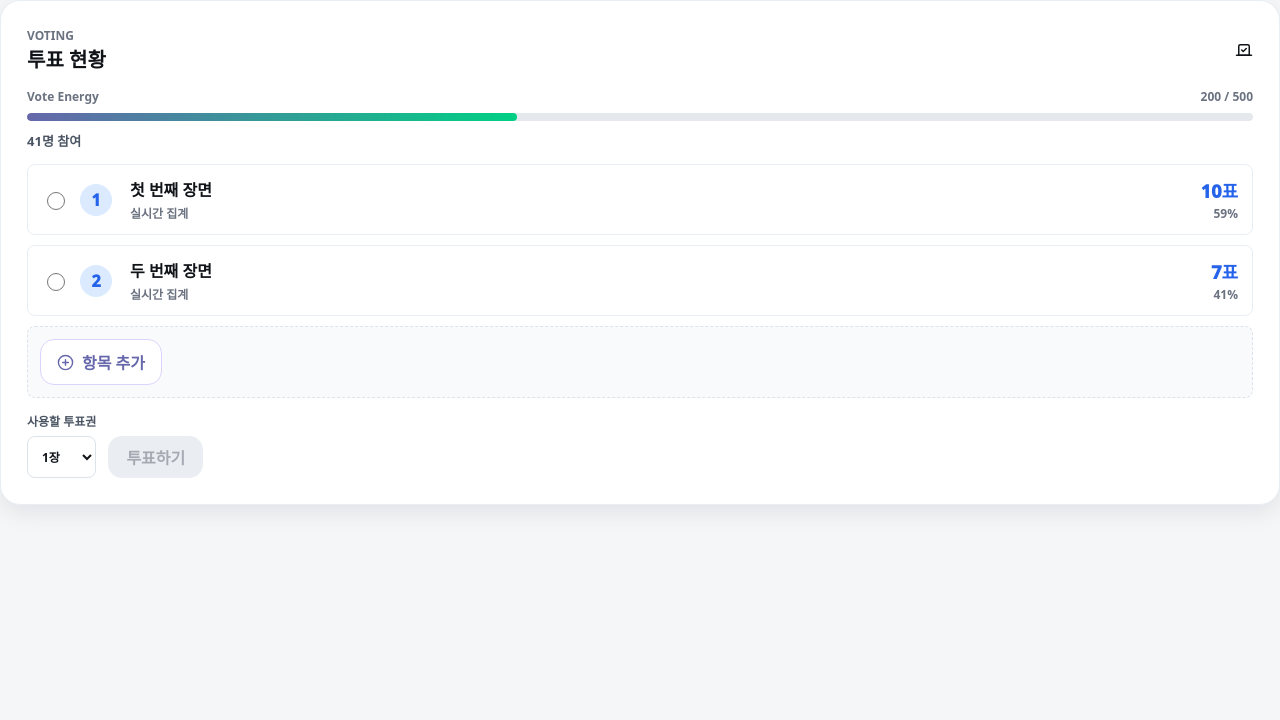
it: VotePanel › updates counts and the energy gauge from a successful command response
Click the radio button labelled "1 첫 번째 장면 실시간 집계 10표 59%" at (56, 201), box [47, 192, 65, 210]
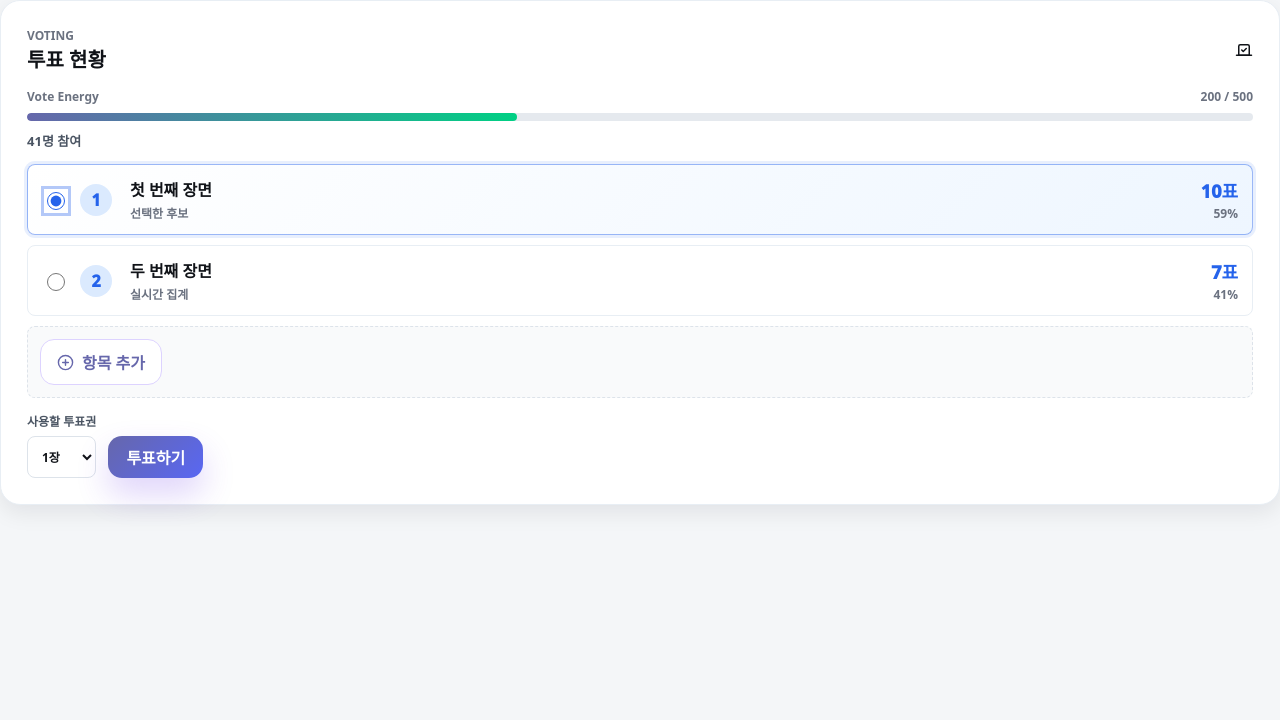
Click the button "투표하기" at (156, 457), box [108, 436, 203, 478]
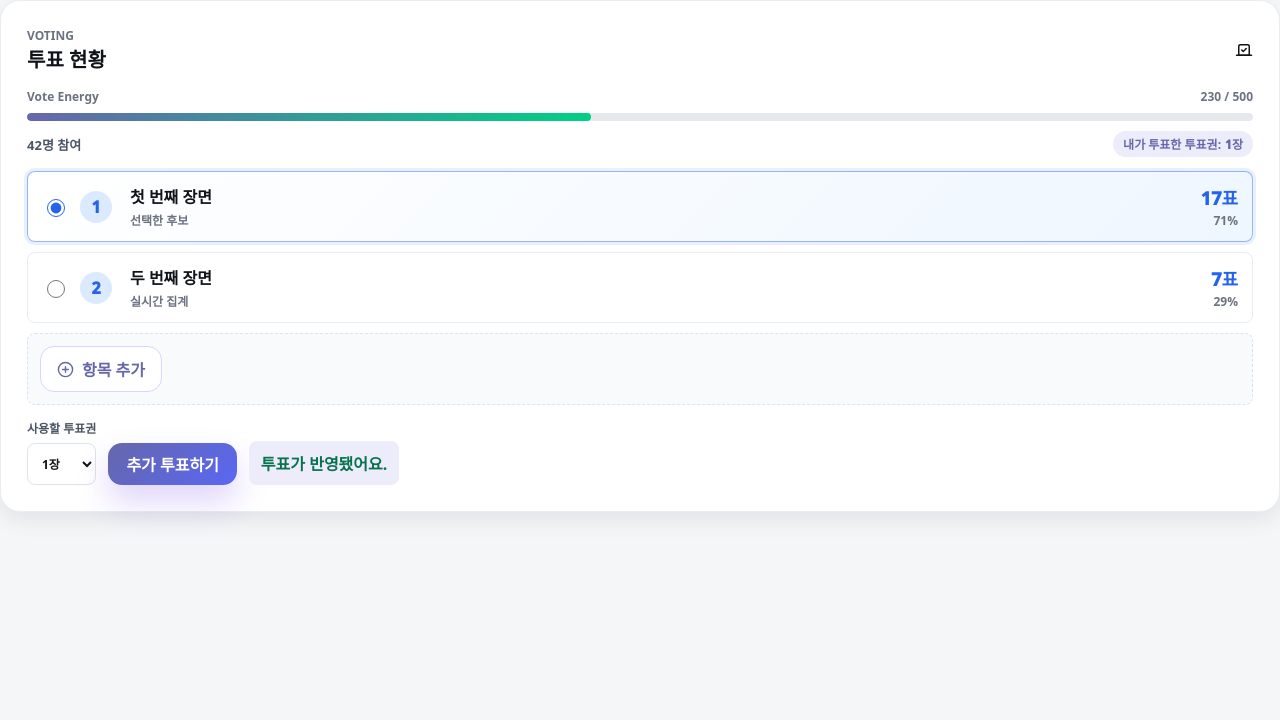
expect the message shows "투표가 반영됐어요": met, box [261, 453, 387, 475]
expect the text "17표" is shown: met, box [1201, 184, 1238, 210]
expect the text "42명 참여" is shown: met, box [27, 134, 81, 154]
